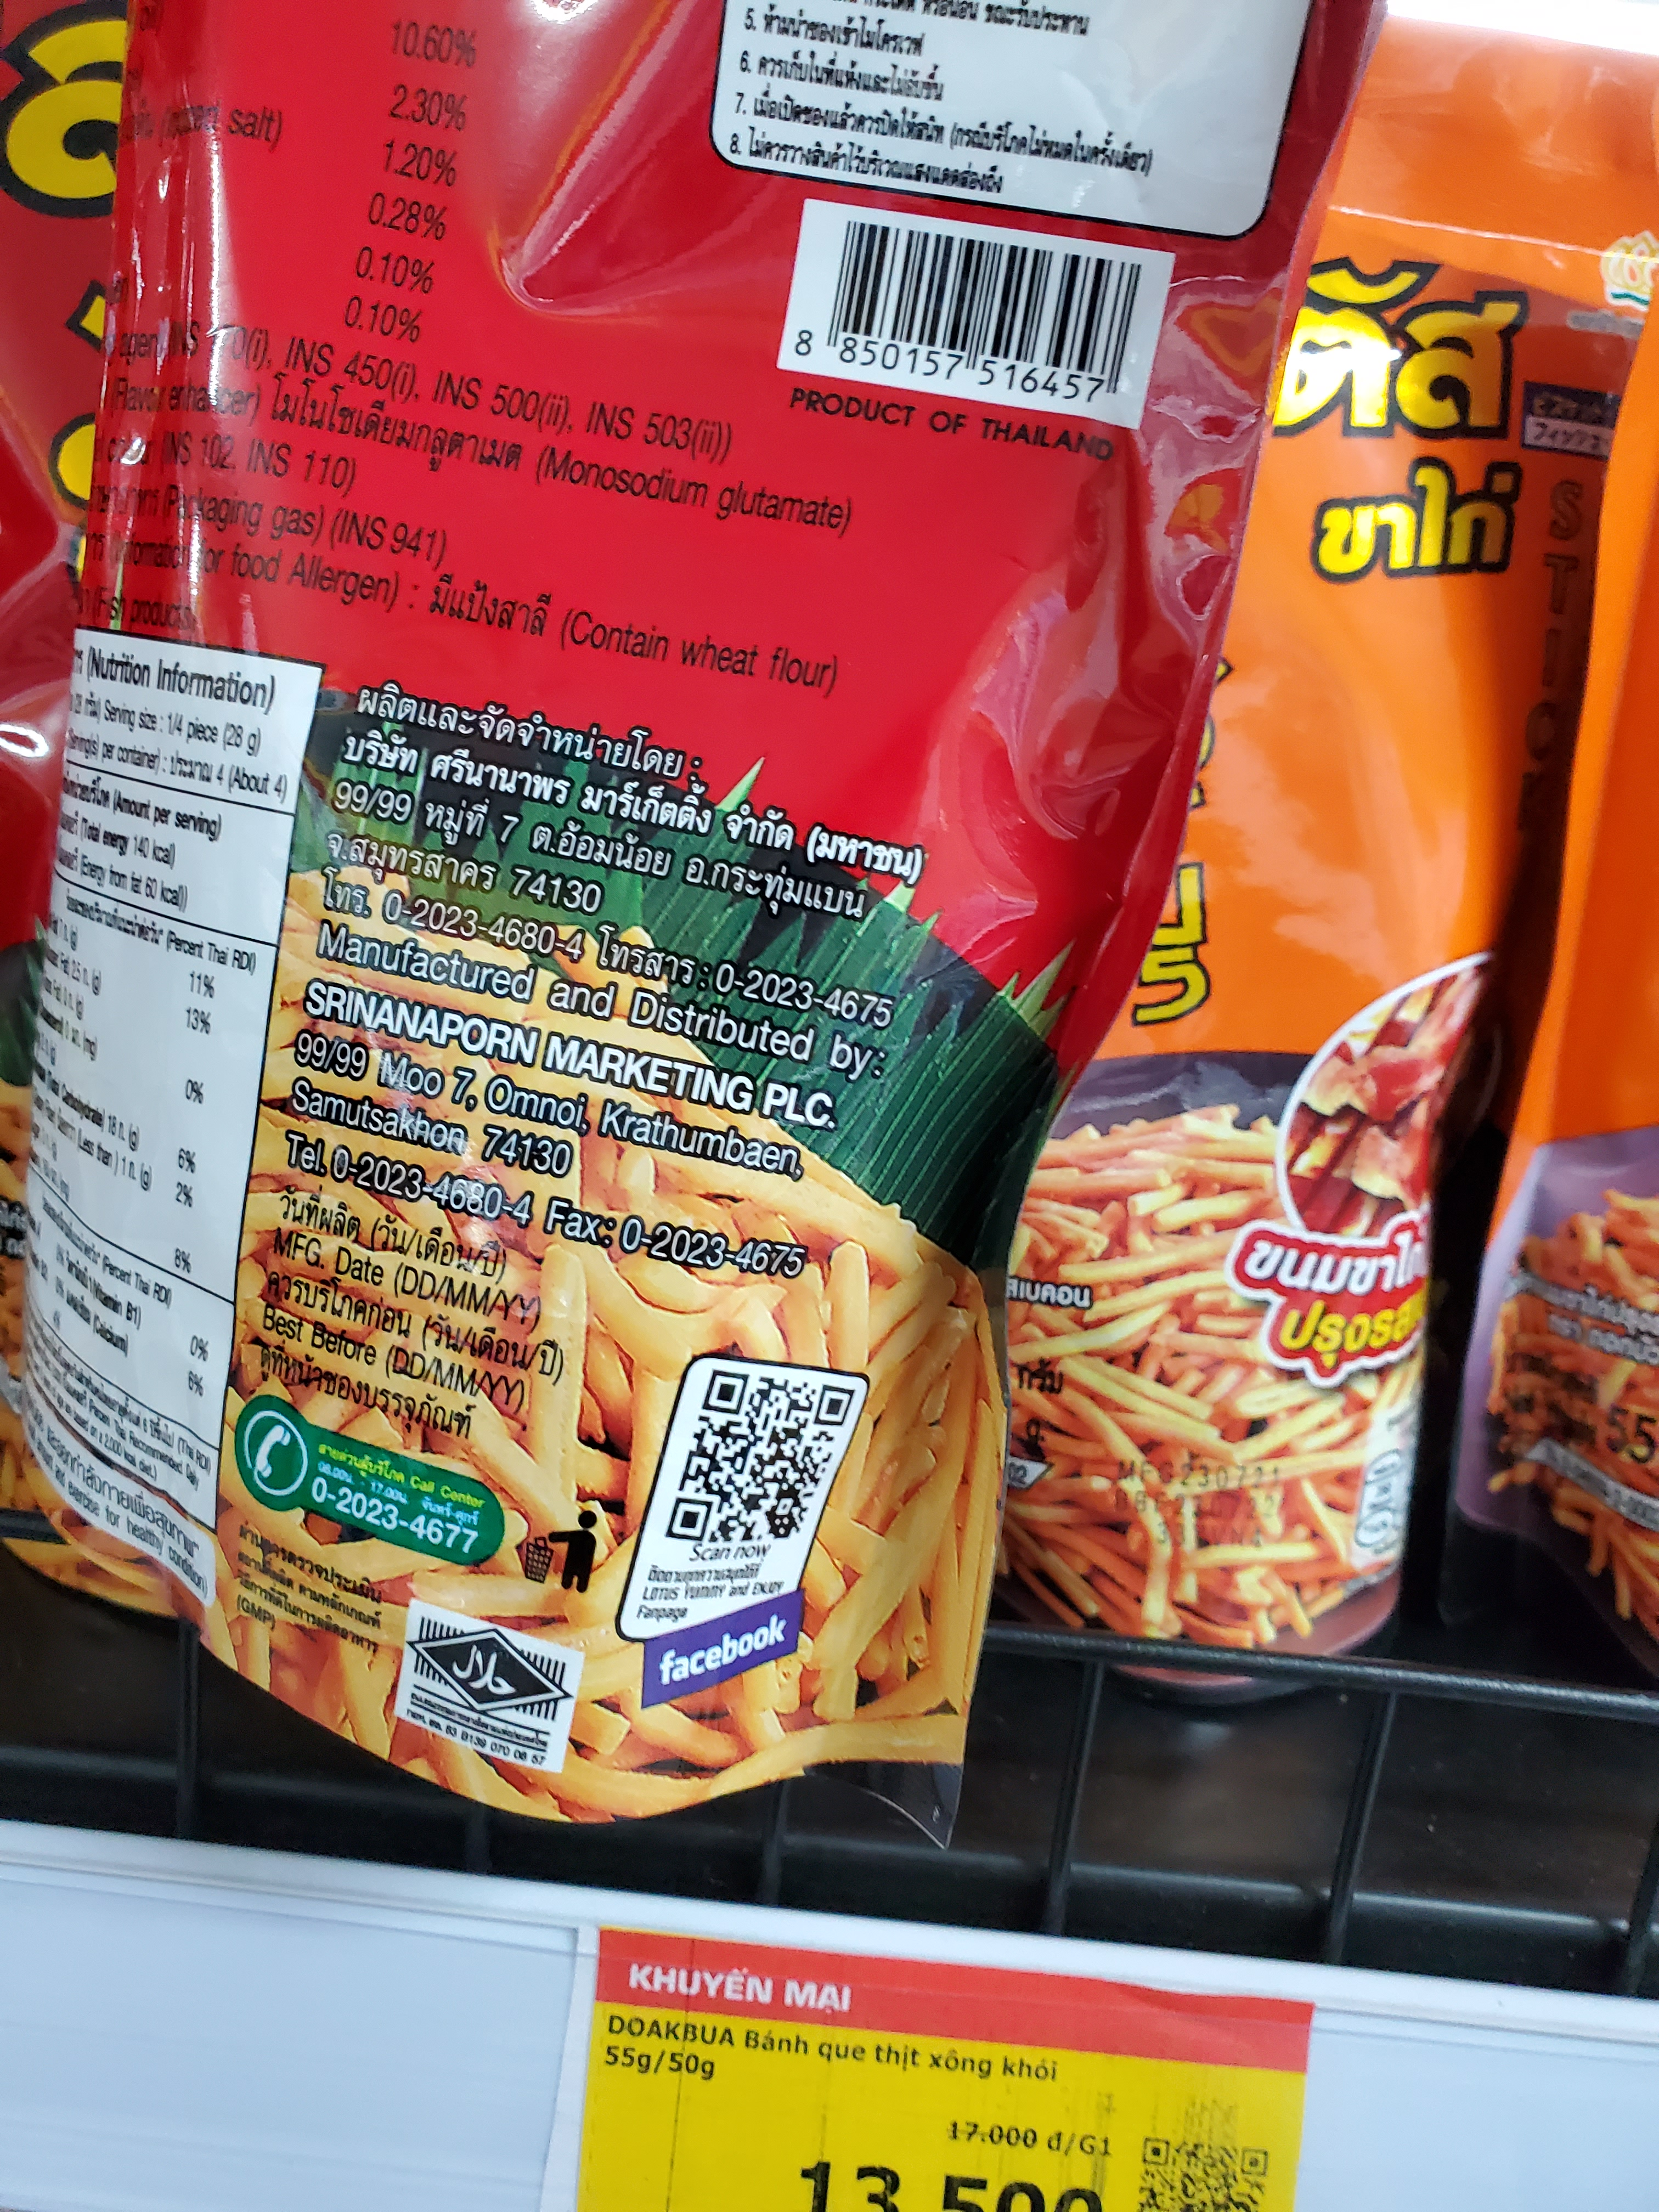barcode: (758, 214, 1161, 408)
qr code: (655, 1355, 878, 1575)
